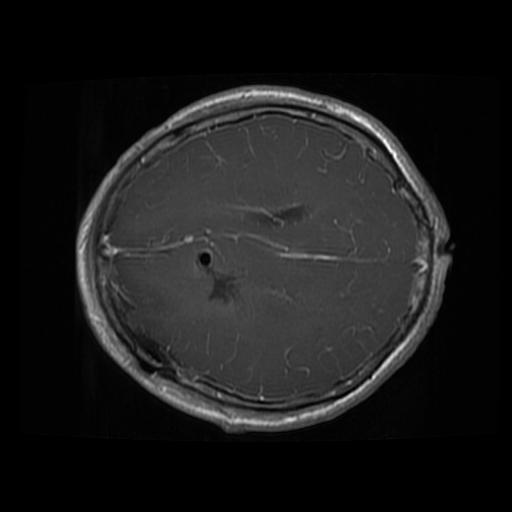glioma: (207, 272, 240, 303)
